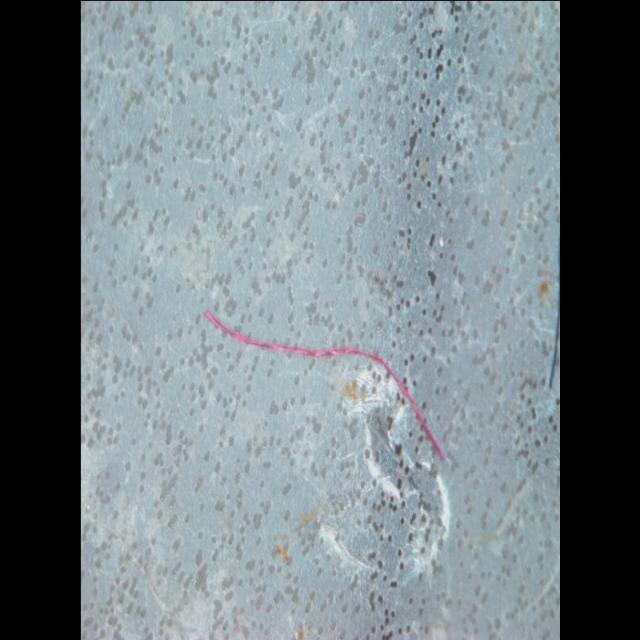Fibre: (202, 296, 446, 467)
